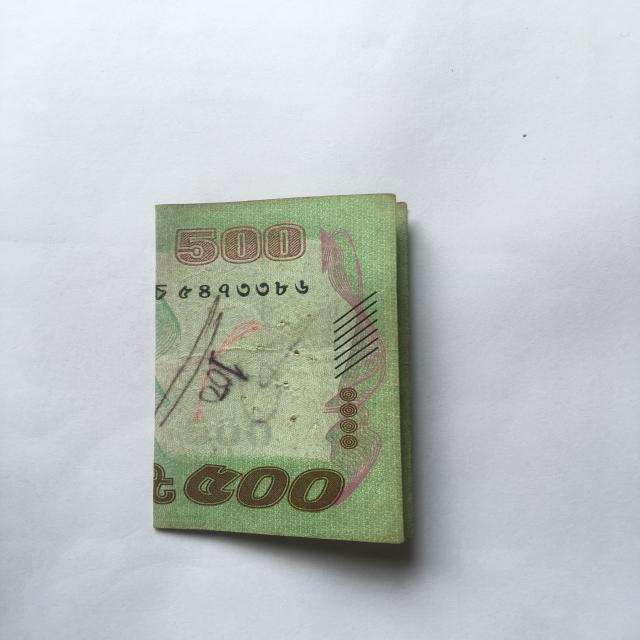Taka: (145, 195, 415, 550)
